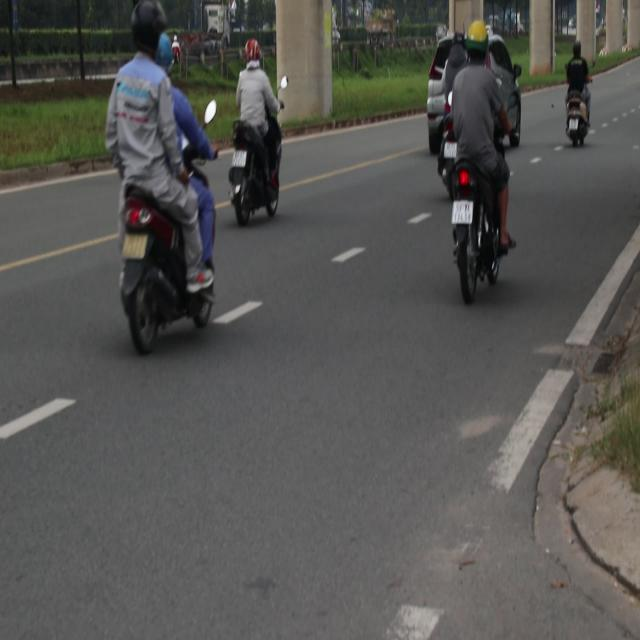car: (426, 28, 466, 156)
motorbike: (117, 182, 214, 355), (448, 170, 518, 316), (428, 34, 481, 203), (227, 122, 292, 228), (561, 91, 612, 183)
truck: (187, 0, 240, 66)
